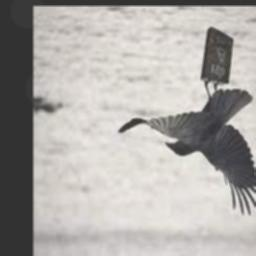Crow: (118, 81, 256, 217)
